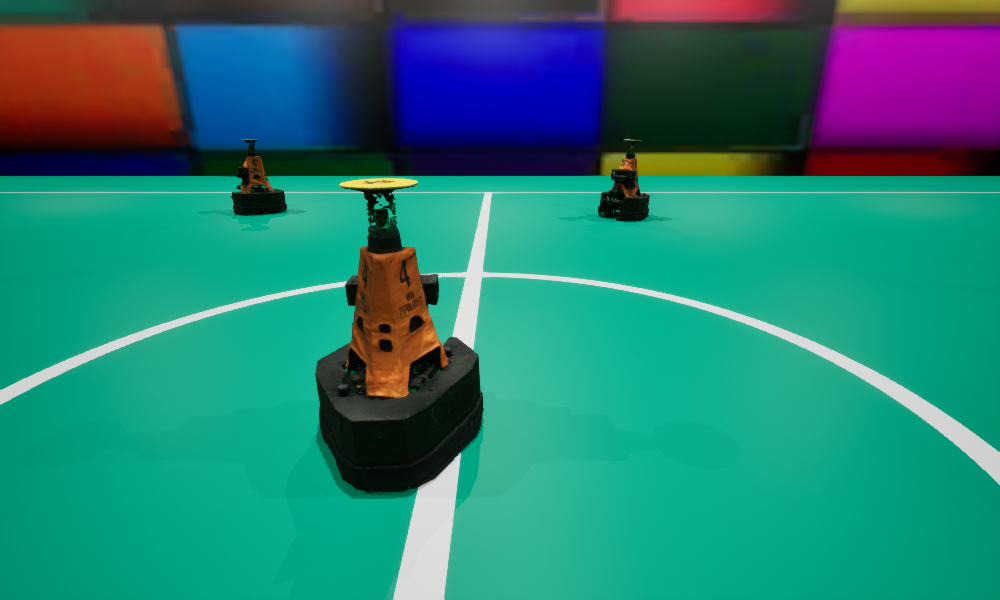0 orange robot TechUnited: (315, 178, 483, 492), (598, 139, 649, 220), (231, 139, 286, 214)
